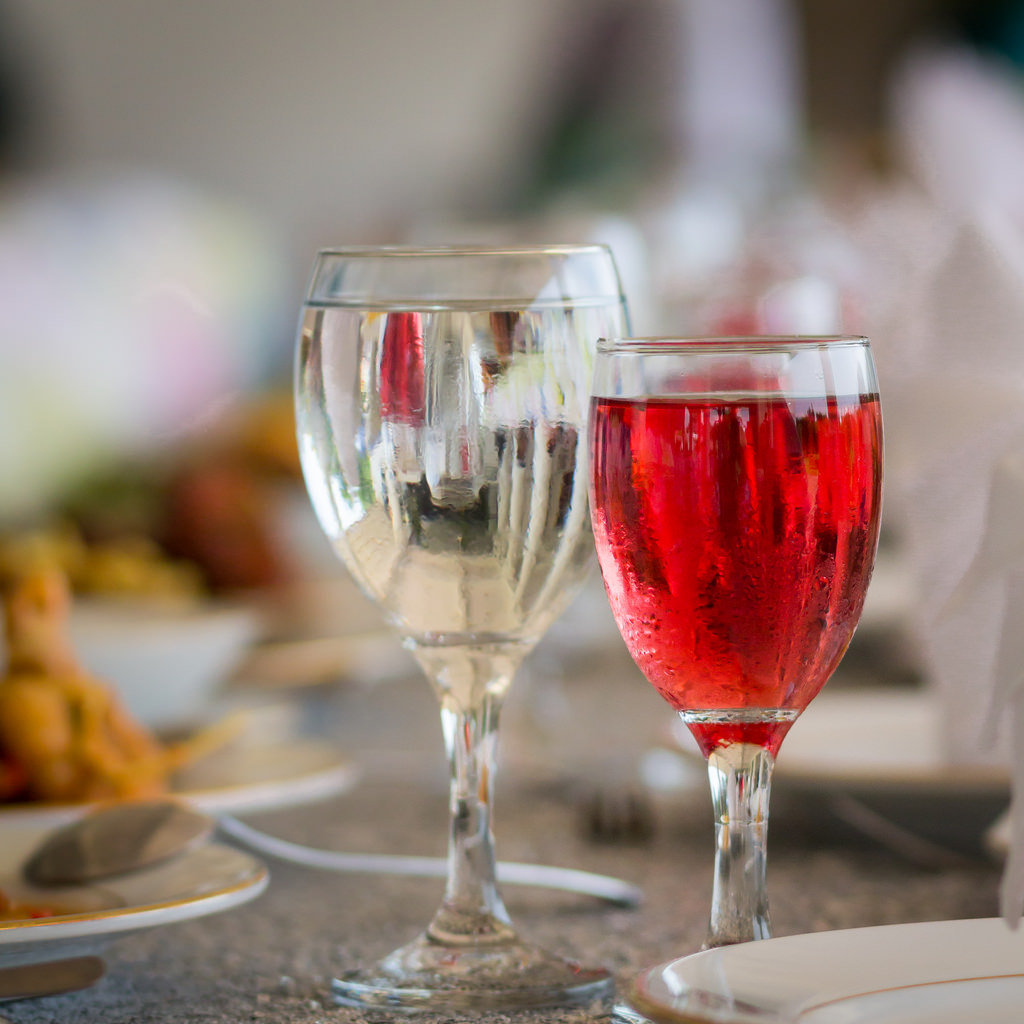glass of water: (319, 253, 563, 1007)
